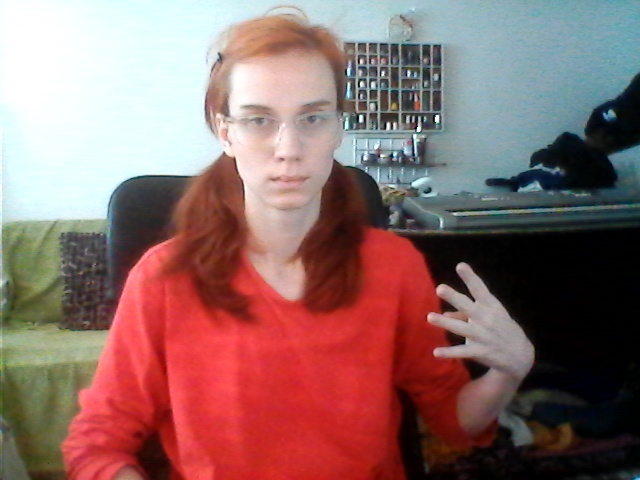styri: (416, 260, 541, 384)
